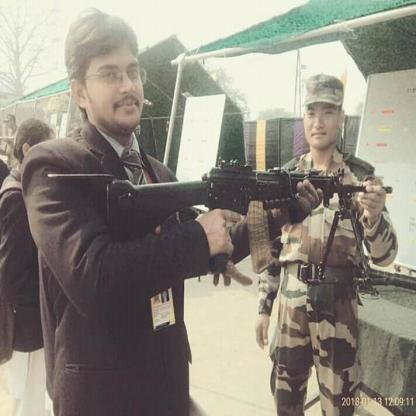rifle: (105, 155, 394, 304)
